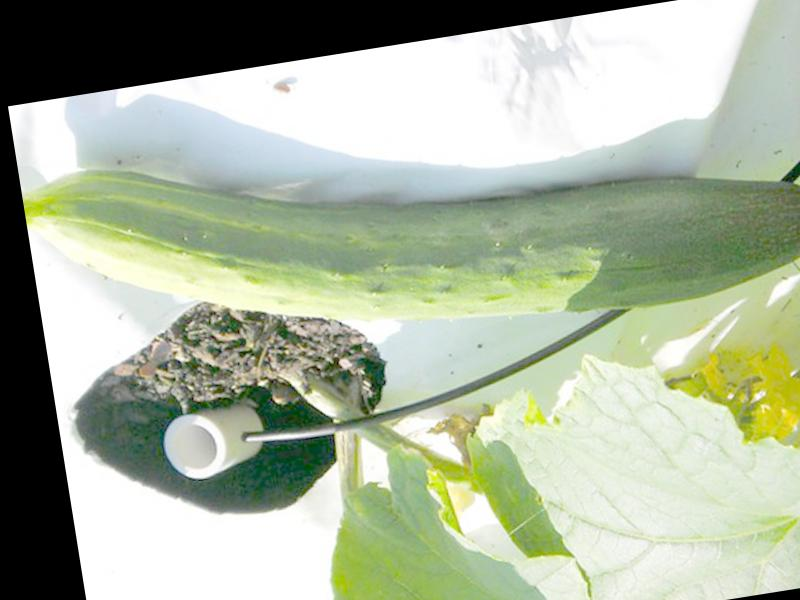Cucumber: (20, 56, 800, 399)
